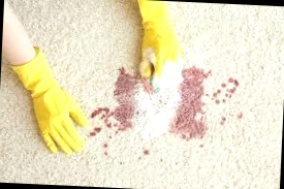wine: (84, 71, 142, 147), (173, 63, 214, 142), (210, 73, 242, 106), (214, 109, 245, 127), (133, 145, 157, 162)
